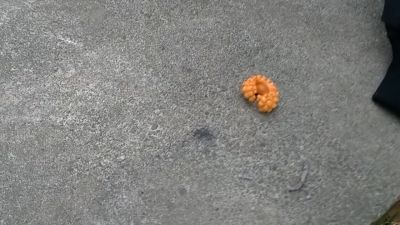eggs: (240, 74, 281, 114)
